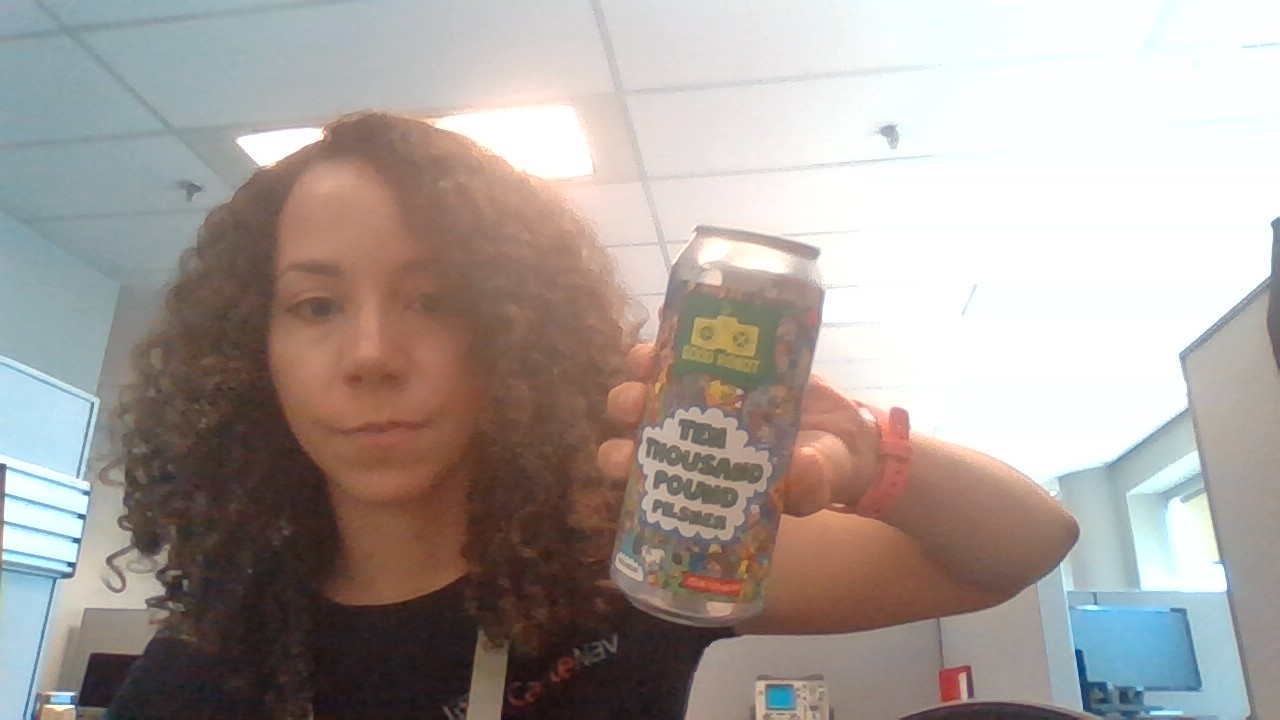Good Robot: (684, 301, 769, 362)
